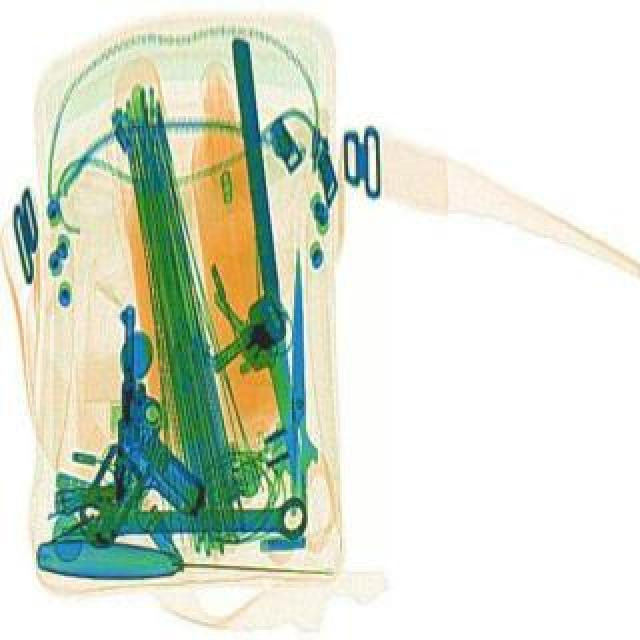gun: (114, 304, 210, 512)
knife: (220, 32, 314, 502), (28, 530, 336, 590)
pliers: (260, 242, 334, 562)
scissors: (80, 488, 306, 546)
